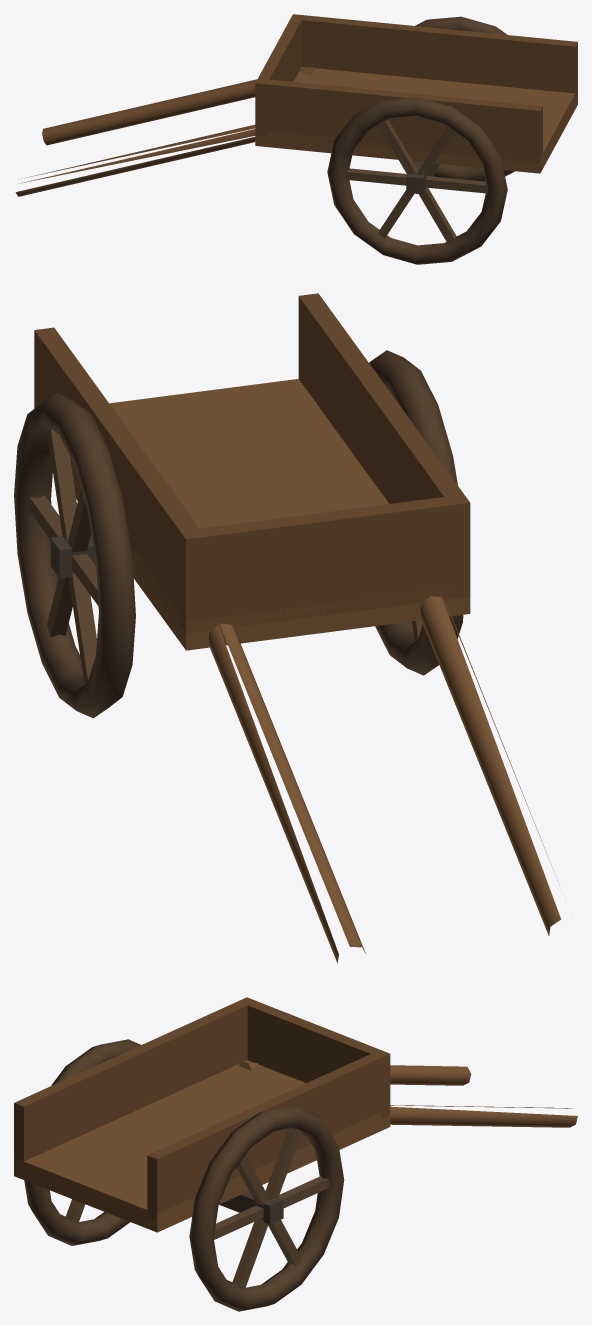
Rendered from hand-cart.glb.
The picture shows the model from 3 angles, top to bottom: view 1: azimuth 30°, elevation 25°; view 2: azimuth 150°, elevation 25°; view 3: azimuth 270°, elevation 25°; orthographic projection. The views are drawn at different scales.
Parts seen in each view (by area): view 1: routeHandCarts; view 2: routeHandCarts; view 3: routeHandCarts.
Boxes of the visible parts, x1,y1,x2,y2 form: routeHandCarts: (15,14,577,264); routeHandCarts: (14,293,561,963); routeHandCarts: (14,997,577,1311).
Bounding box in the file's own units: 2.57 × 0.95 × 2.48.
